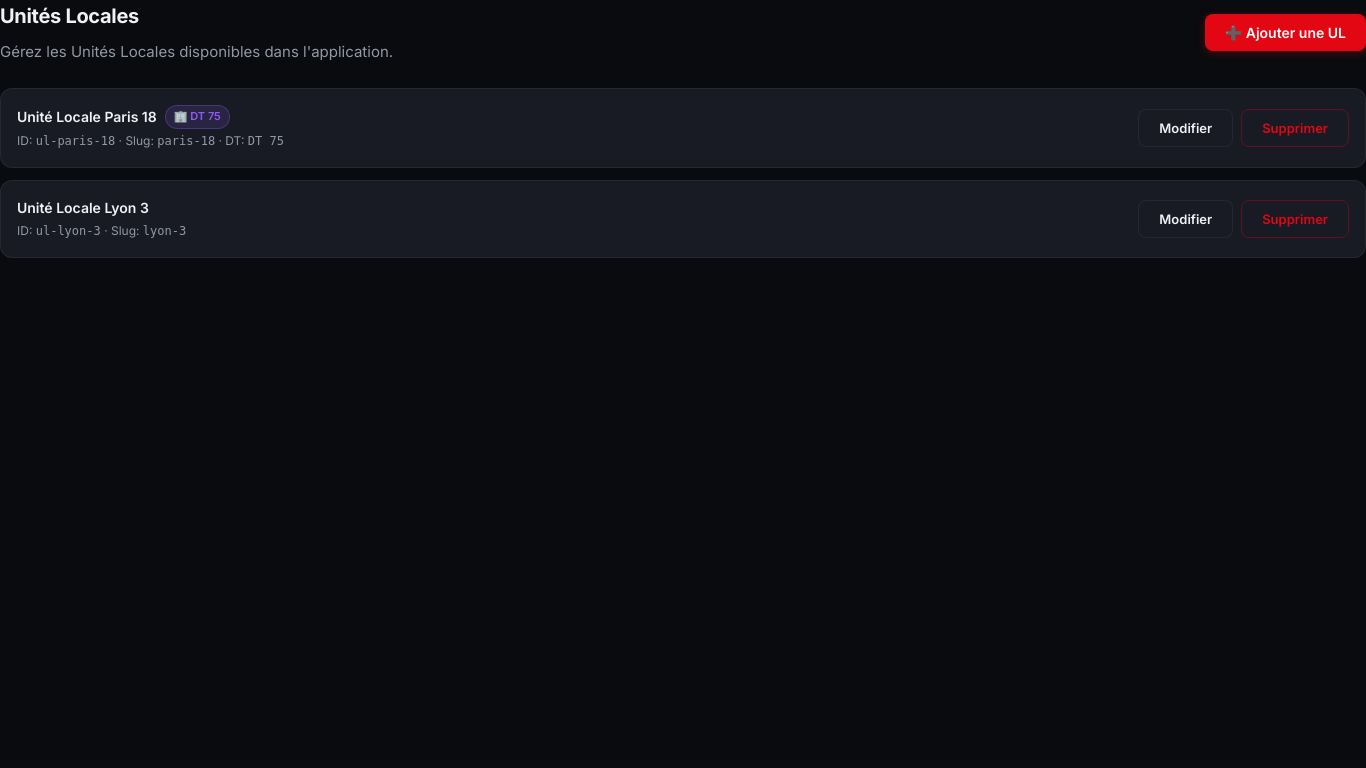
ULsTab › pré-remplit et verrouille le slug en édition
Check: the text "Unité Locale Paris 18" is shown, box [17,106,157,128]
Click the button "Modifier" in the row of "· DT:". click: [1186, 128]
box: [1138,109,1233,147]
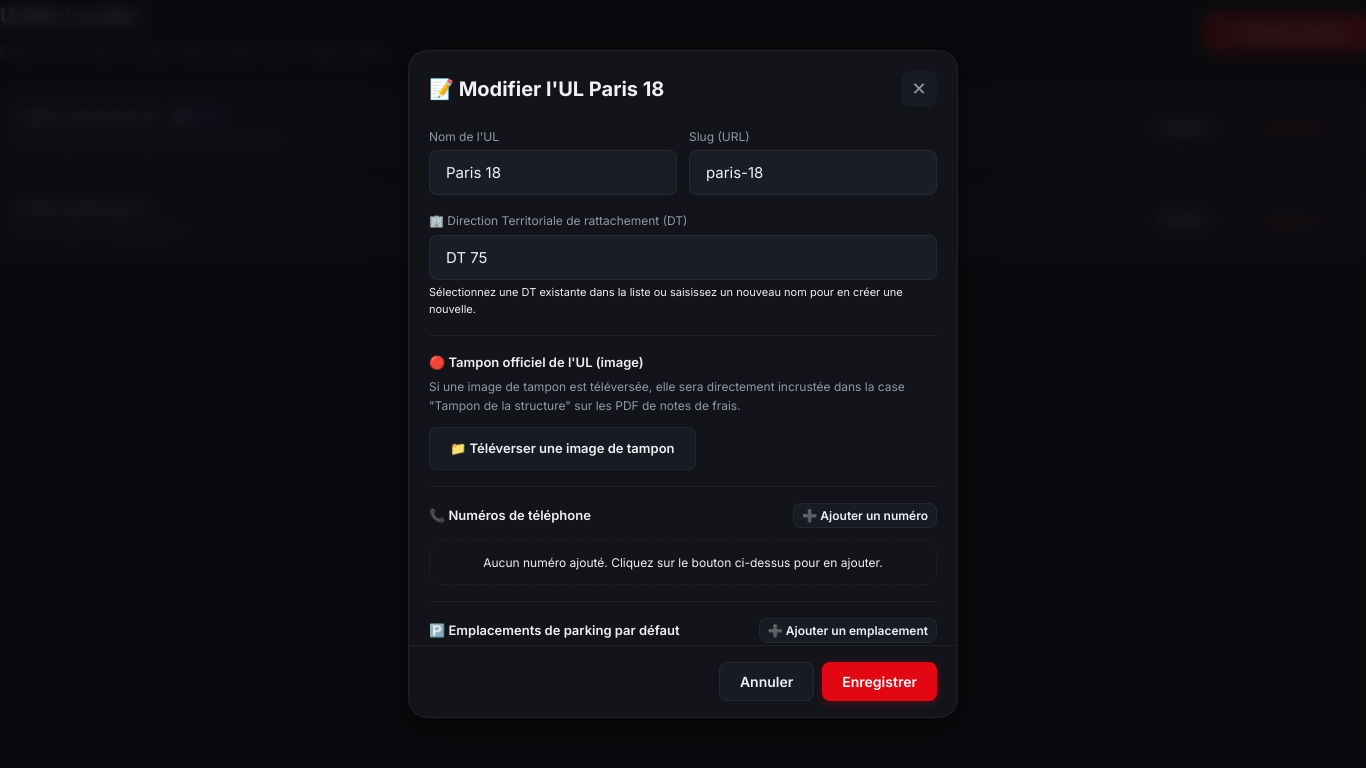
Check: the field with placeholder "paris-18" below "Slug (URL)" holds "paris-18", box [689,150,937,195]
Check: the field with placeholder "paris-18" below "Slug (URL)" is disabled, box [689,150,937,195]
